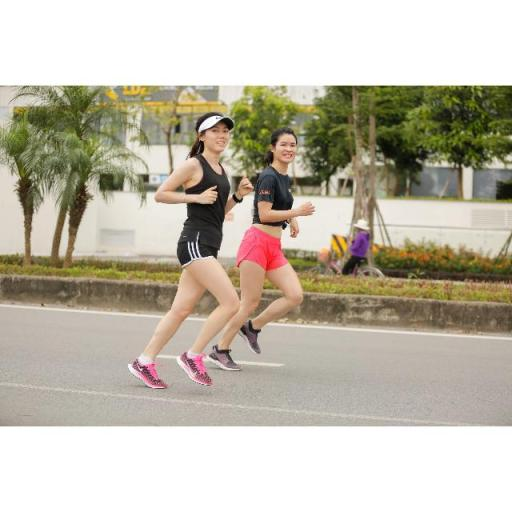Running: (122, 110, 245, 398), (231, 124, 329, 386)
